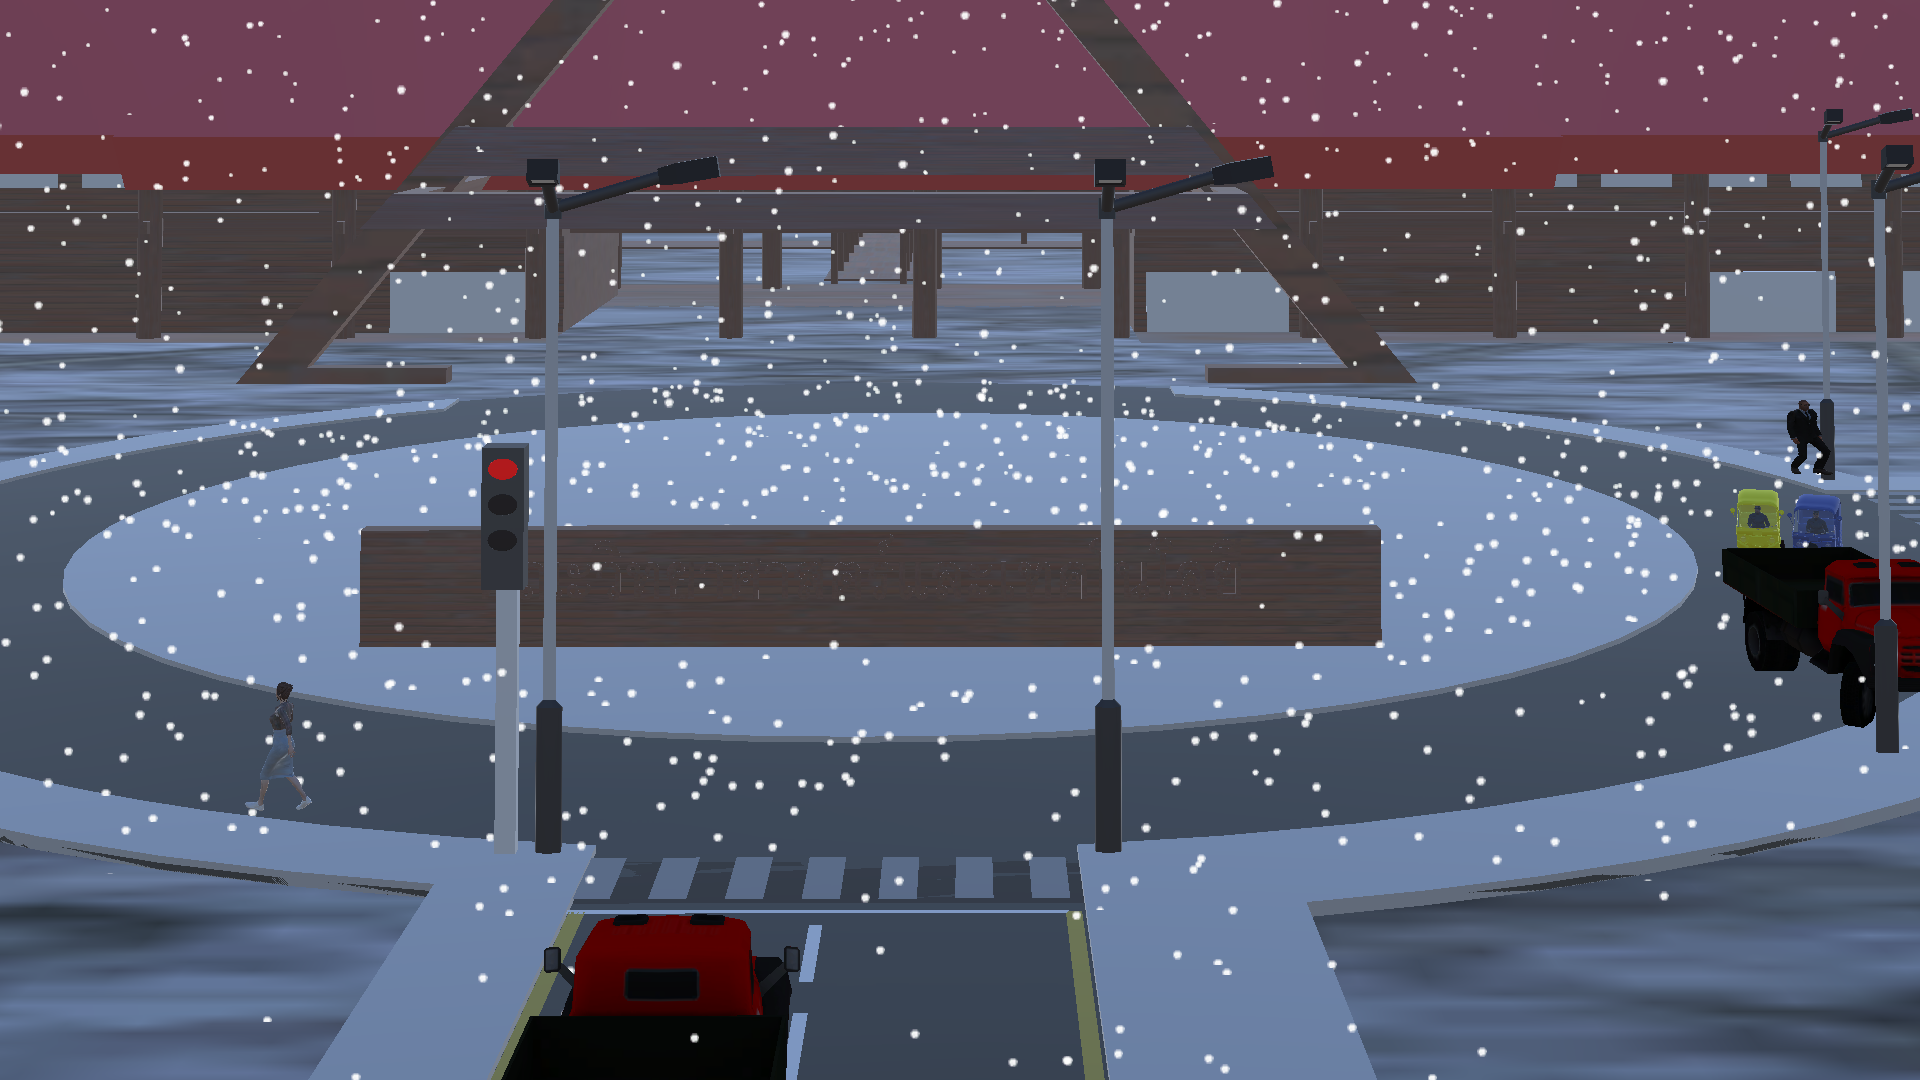pedestrian: (240, 673, 326, 824), (1777, 393, 1830, 483)
